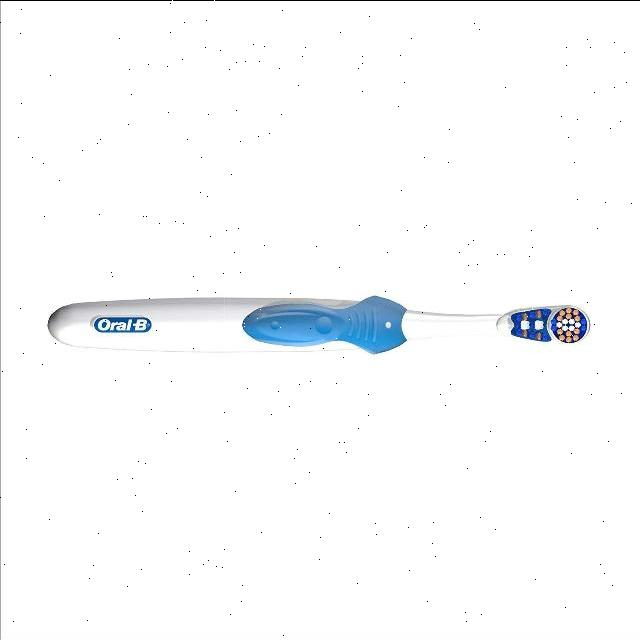toothbrush: (24, 271, 600, 401)
